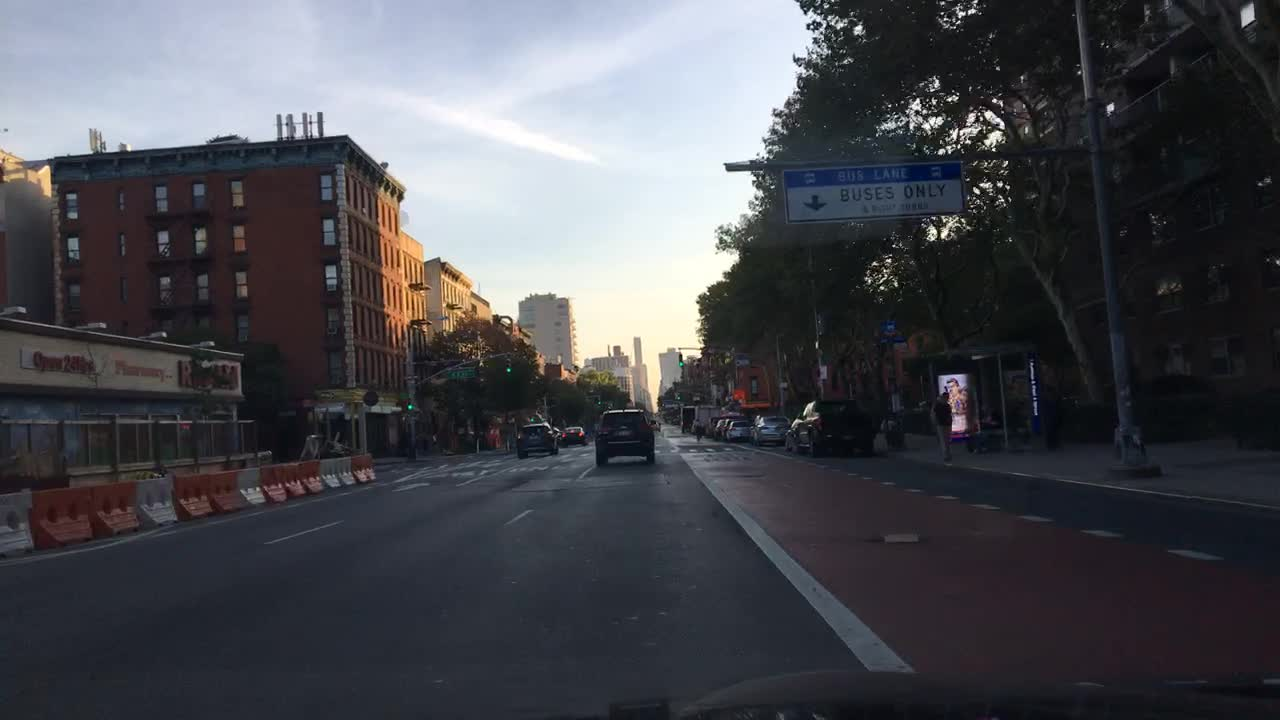car: (786, 398, 873, 459), (593, 407, 652, 467), (516, 420, 559, 456), (749, 414, 792, 443), (724, 417, 754, 441), (561, 424, 587, 446), (721, 416, 741, 440), (705, 416, 721, 436), (712, 418, 727, 439), (550, 426, 565, 446), (647, 418, 660, 434)
person: (929, 390, 957, 467), (692, 414, 705, 442)
traffic light: (503, 356, 513, 375), (676, 351, 684, 367), (405, 399, 414, 412), (673, 389, 680, 400)
traffic sign: (781, 160, 965, 221), (362, 390, 377, 406), (447, 370, 475, 378), (398, 391, 417, 400)
